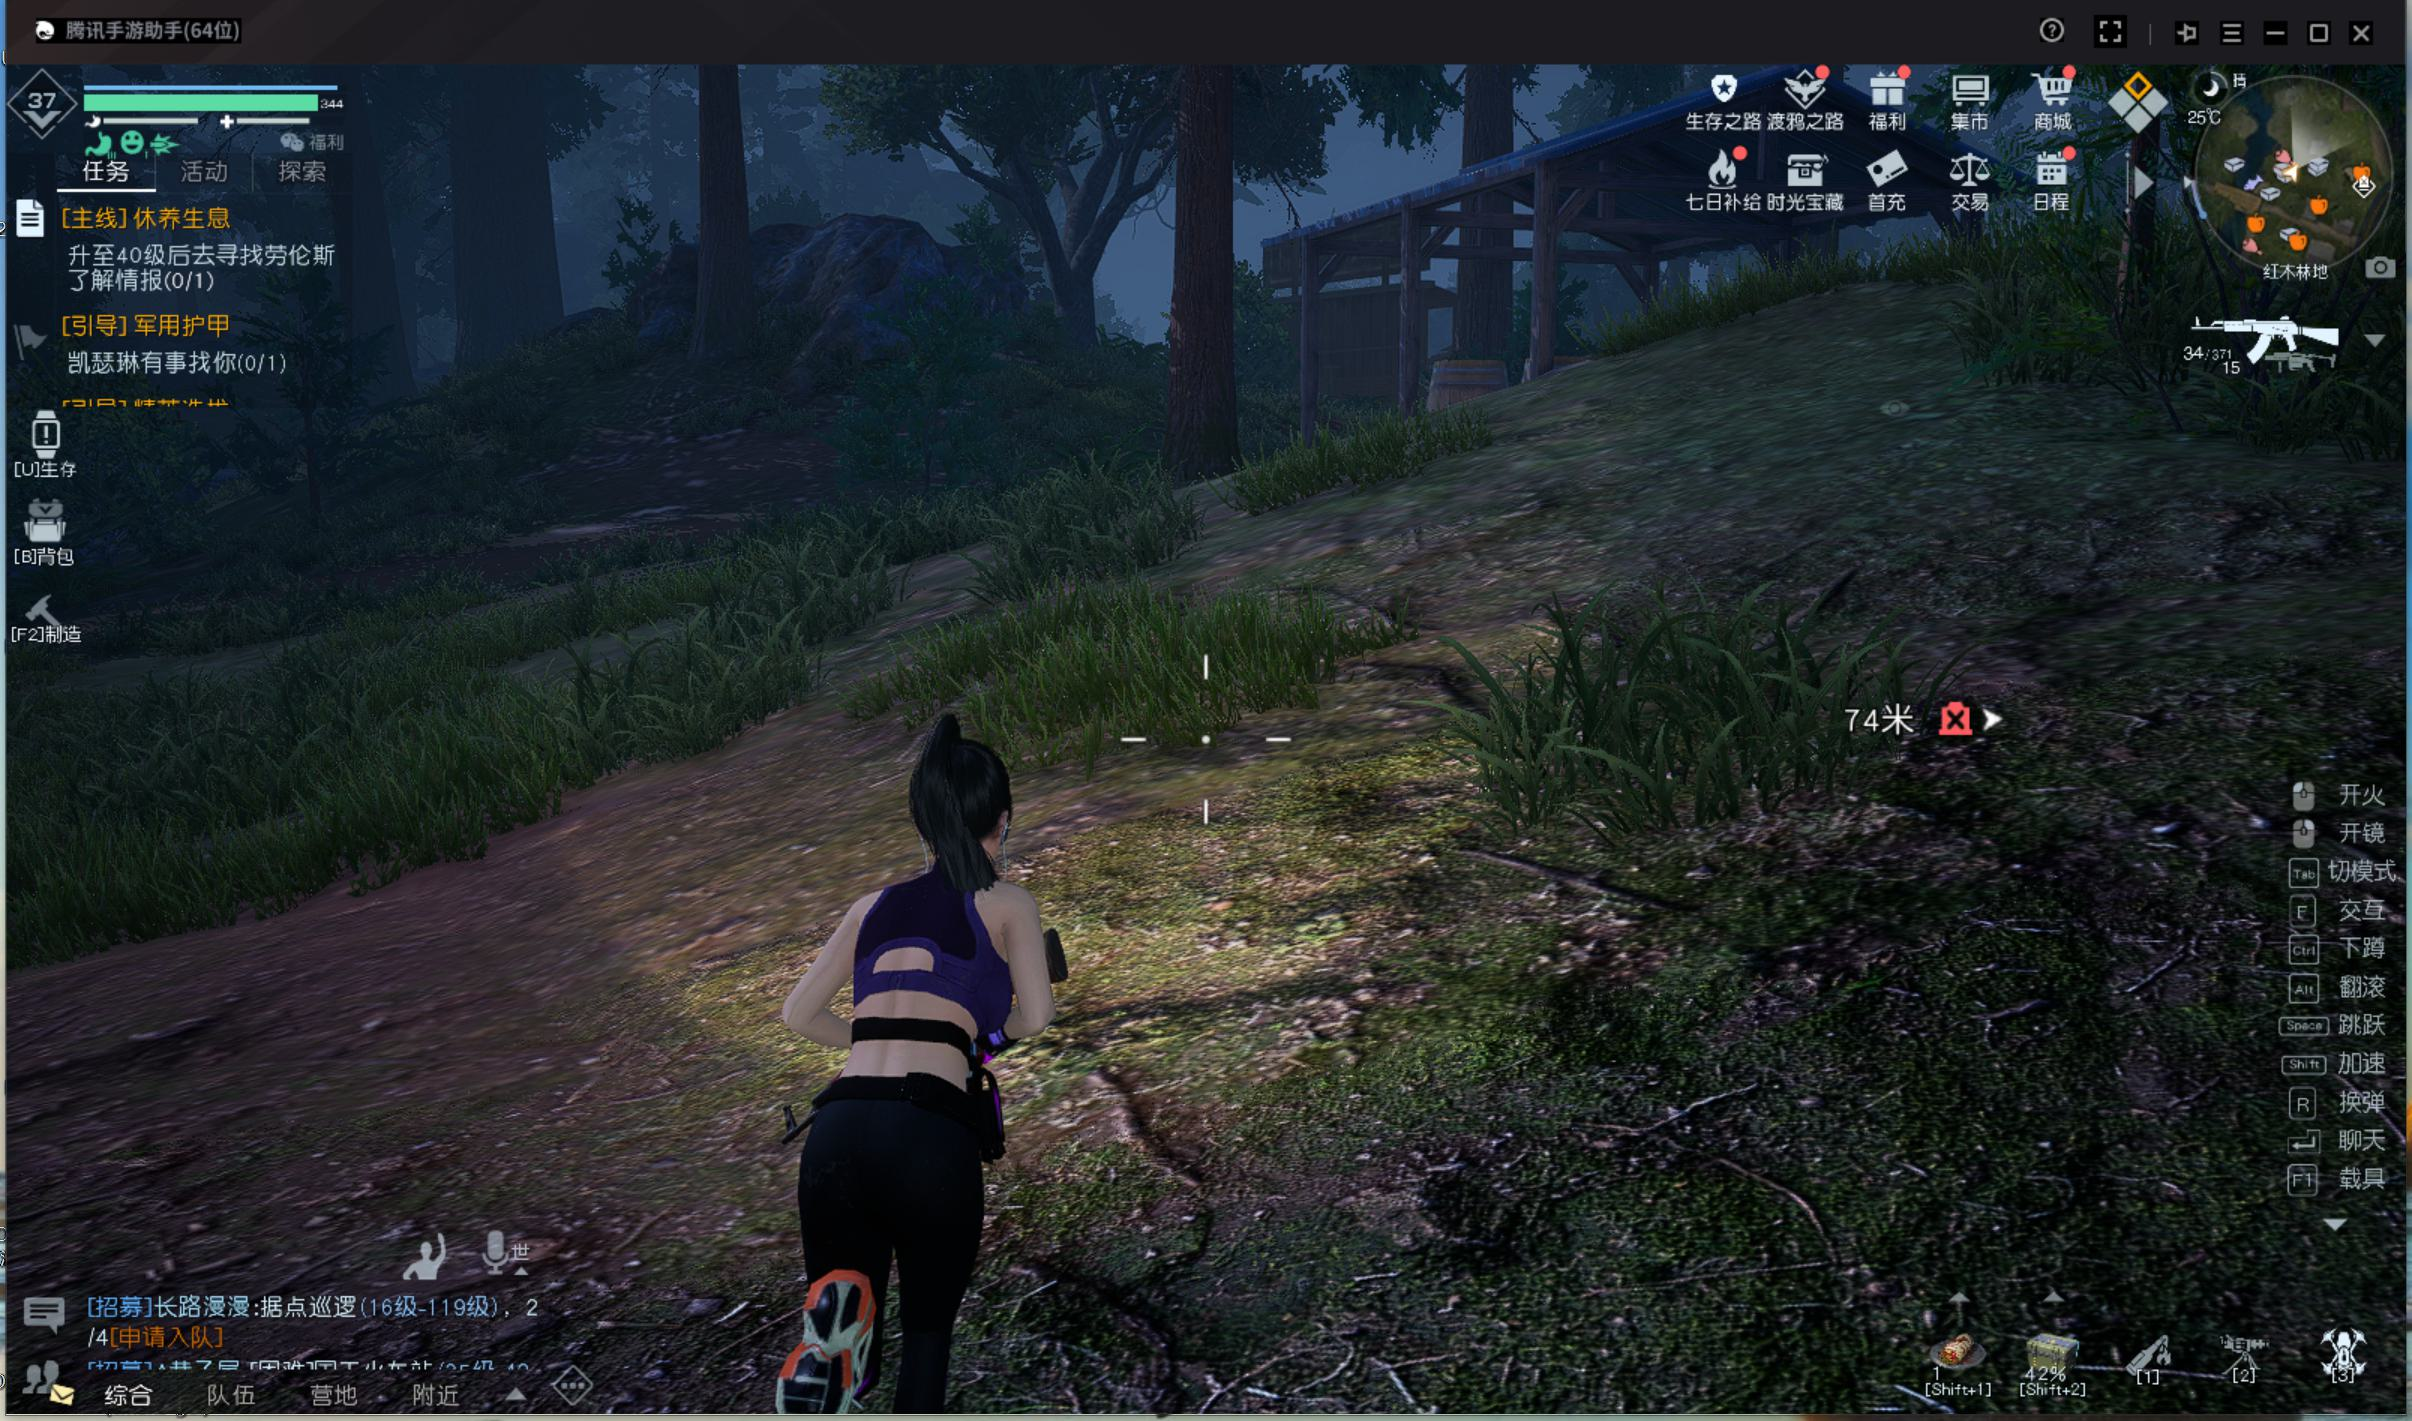tree: (1160, 171, 1248, 496), (680, 85, 766, 394)
